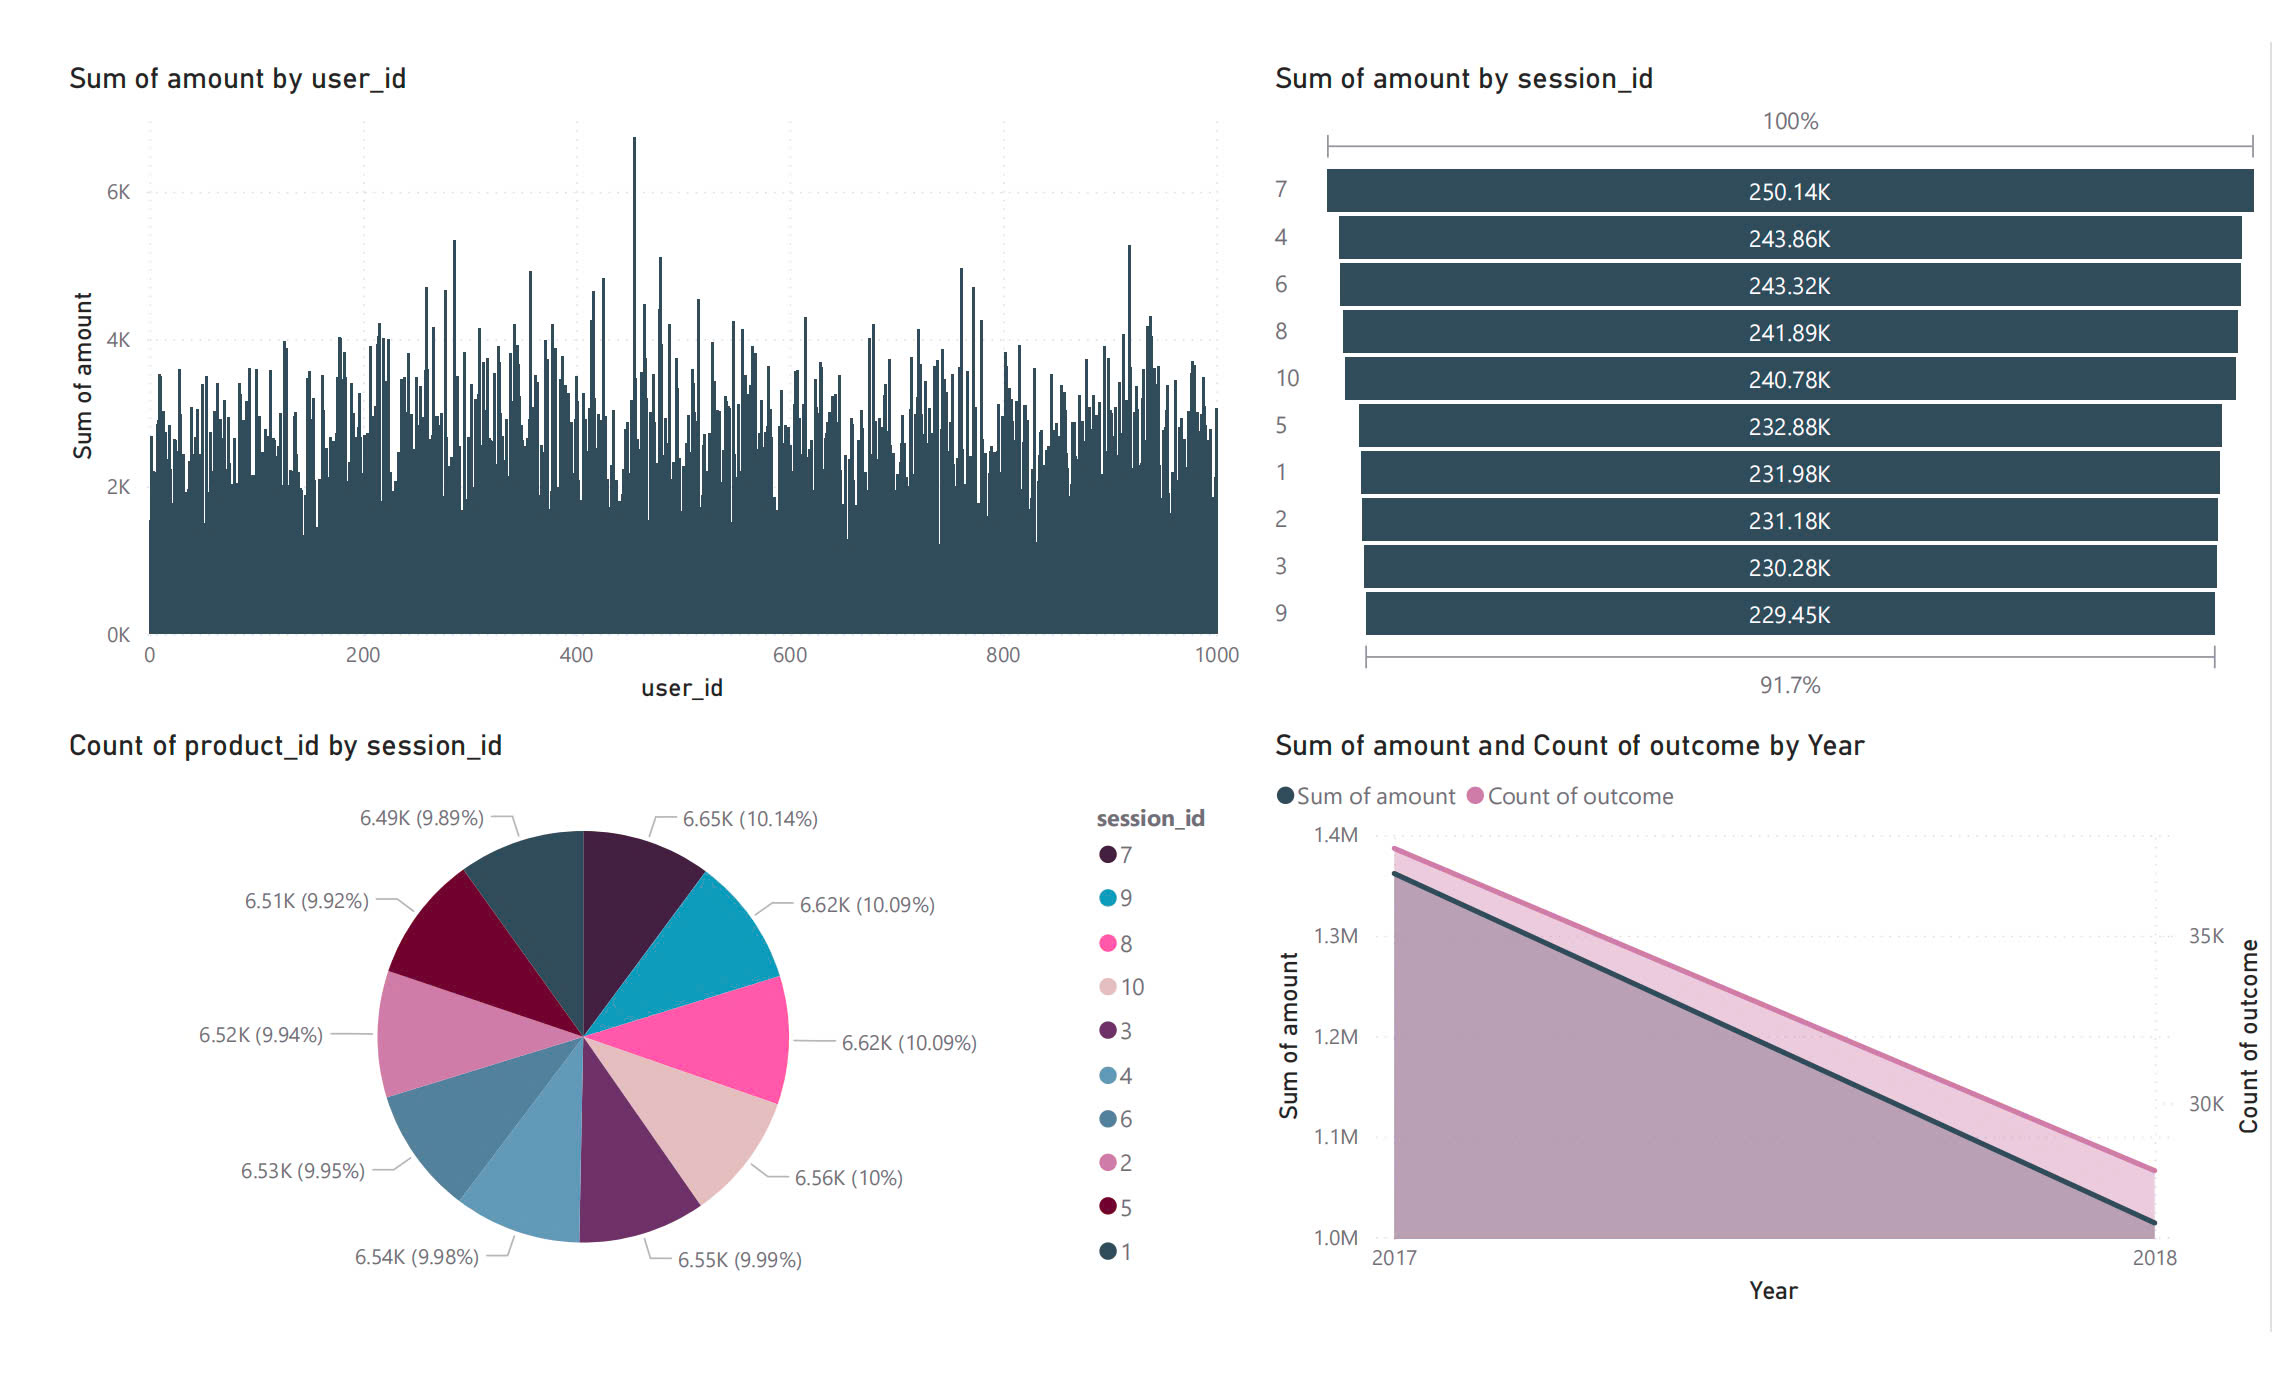

What the dashboard file says about the page in this screenshot:
{"tool":"powerbi","page":{"name":"ClickStream","canvas":[1280,720],"ordinal":2},"visuals":[{"type":"columnChart","fields":{"Y":["Sum(clickstream.amount)"],"Category":["clickstream.user_id"]},"box":[10.4,0,683.3,373],"z":0},{"type":"pieChart","fields":{"Category":["clickstream.session_id"],"Y":["CountNonNull(clickstream.product_id)"]},"box":[10,383,683,337],"z":1},{"type":"funnel","fields":{"Y":["Sum(clickstream.amount)"],"Category":["clickstream.session_id"]},"box":[703,0,577,373],"z":2},{"type":"areaChart","fields":{"Category":["clickstream.timestamp.Variation.Date Hierarchy.Year"],"Y":["Sum(clickstream.amount)"],"Y2":["CountNonNull(clickstream.outcome)"]},"box":[703,383,577,337],"z":3}]}

Visuals, with their boxes on the page's 1280x720 design canvas (x1, y1, x2, y2). These are canvas units, not pixel positions in the 2272x1374 screenshot, which may show the page scaled, cropped or inside an application window:
columnChart - Sum(clickstream.amount) x clickstream.user_id: [x1=10, y1=0, x2=694, y2=373]
pieChart - clickstream.session_id x CountNonNull(clickstream.product_id): [x1=10, y1=383, x2=693, y2=720]
funnel - Sum(clickstream.amount) x clickstream.session_id: [x1=703, y1=0, x2=1280, y2=373]
areaChart - clickstream.timestamp.Variation.Date Hierarchy.Year x Sum(clickstream.amount): [x1=703, y1=383, x2=1280, y2=720]
